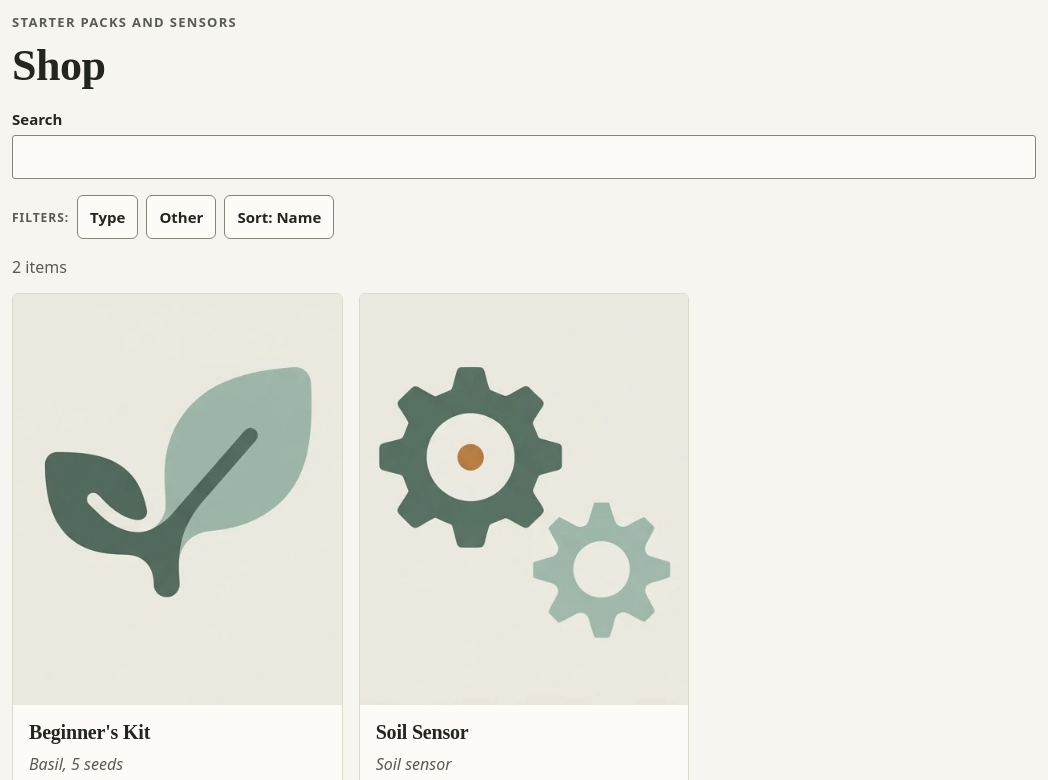
Test case: CatalogPage › shows items of any ticked type and toggles a checkbox with the space key
Expected: the heading "Soil Sensor" is shown, x1=376 y1=721 x2=468 y2=743
Click the button "Type".
click(108, 217)  # box x1=77 y1=195 x2=138 y2=239
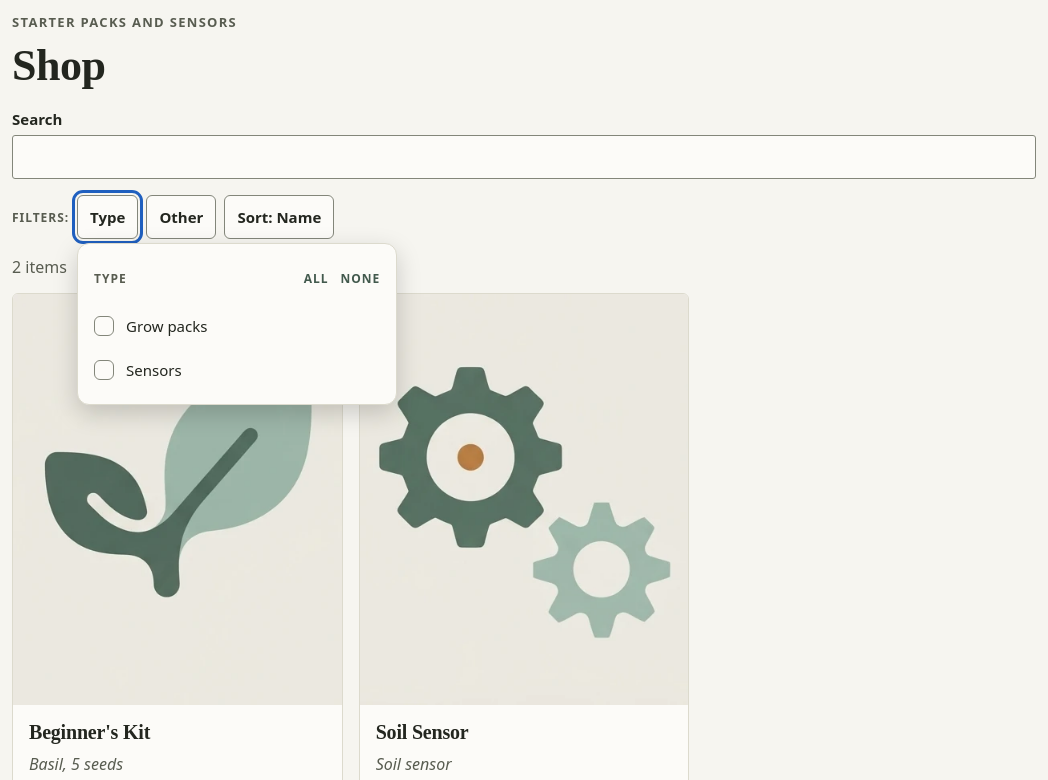
Click the checkbox labelled "Sensors".
click(138, 370)  # box x1=94 y1=360 x2=182 y2=380
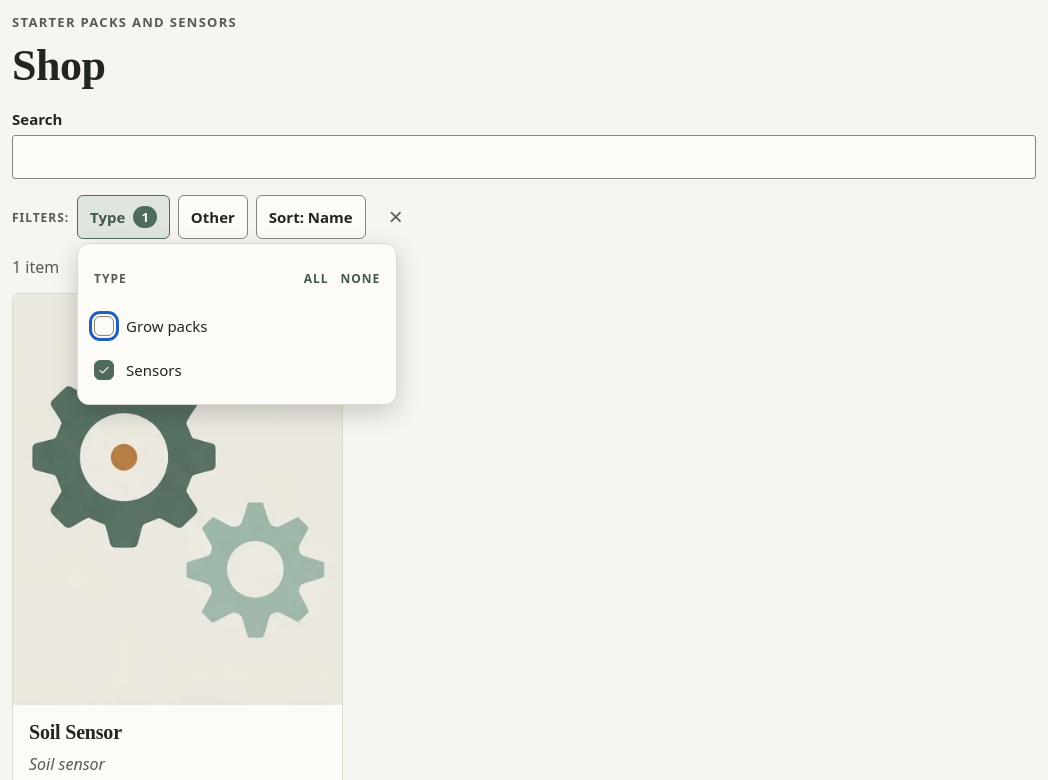
Now the link "Beginner's Kit" is gone
Type keys " "
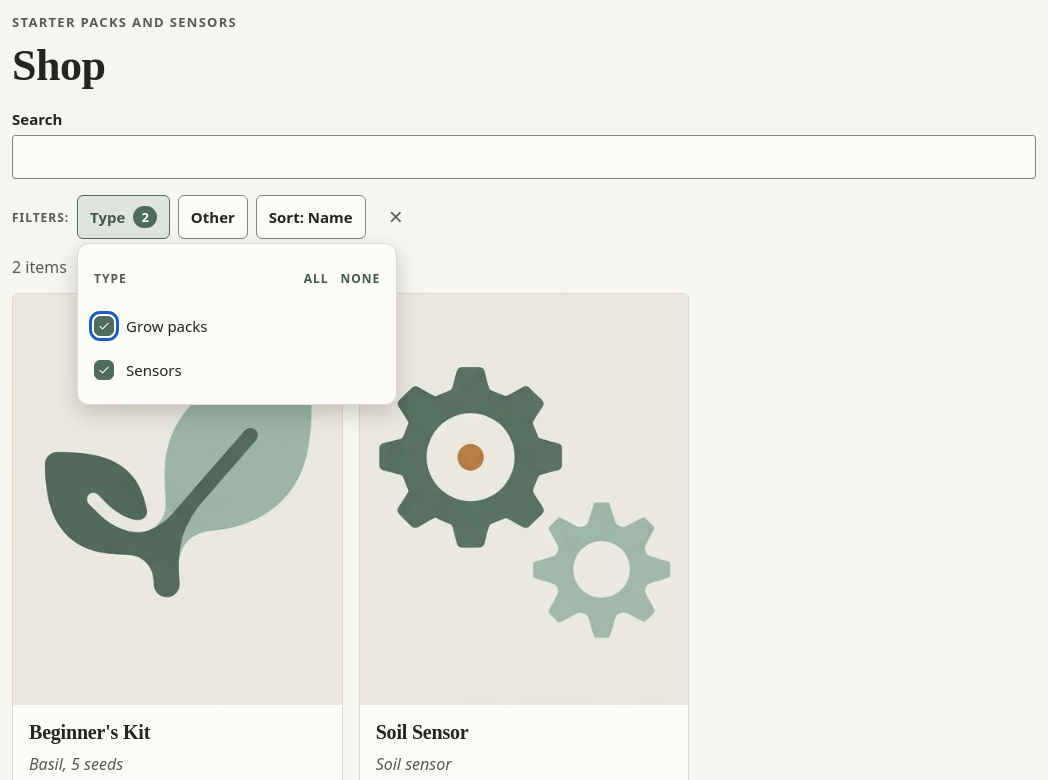
Expected: the heading "Soil Sensor" is shown, x1=376 y1=721 x2=468 y2=743
Now the heading "Beginner's Kit" is shown, box x1=29 y1=721 x2=150 y2=743
Now the button "Type 2" is shown, box x1=77 y1=195 x2=170 y2=239
